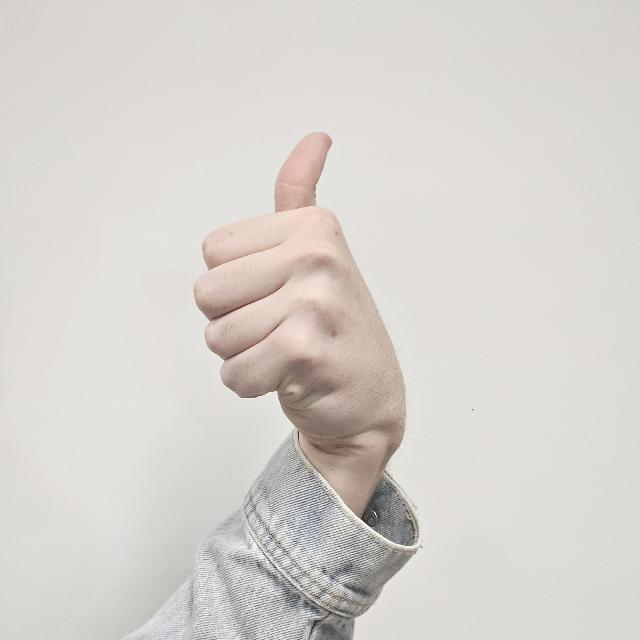Start: (198, 124, 362, 410)
